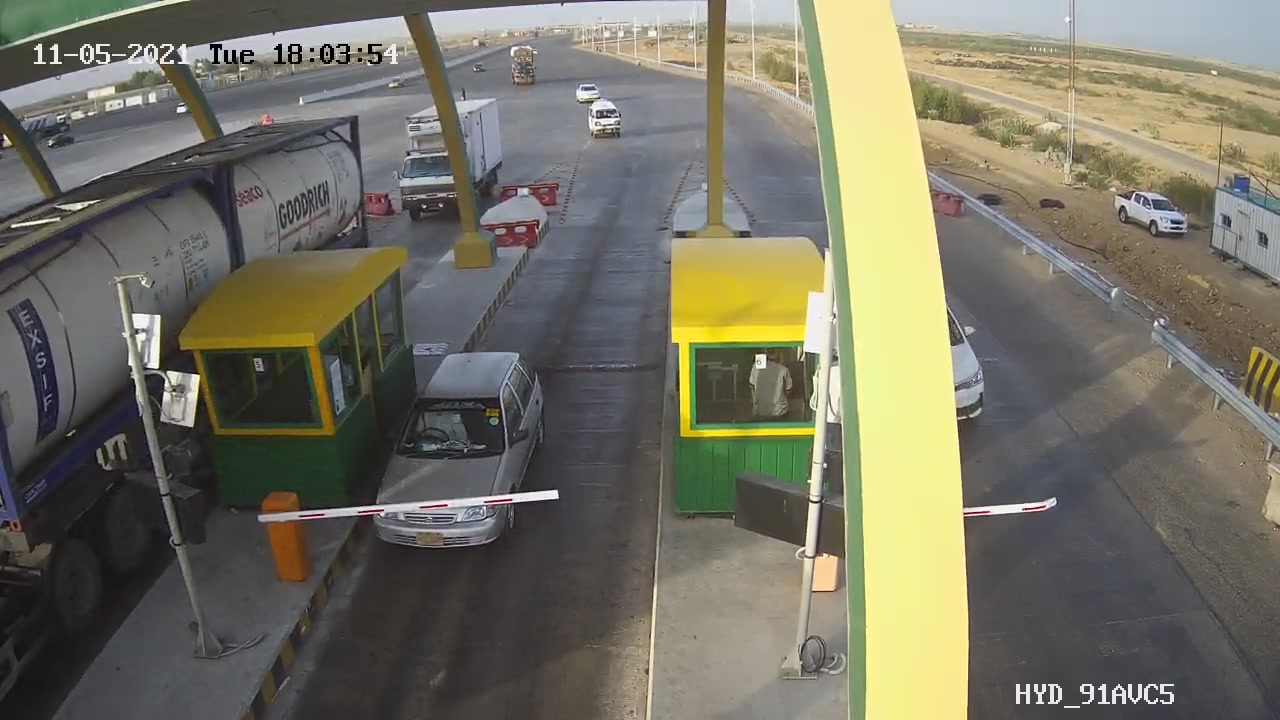F1: (356, 339, 573, 572)
